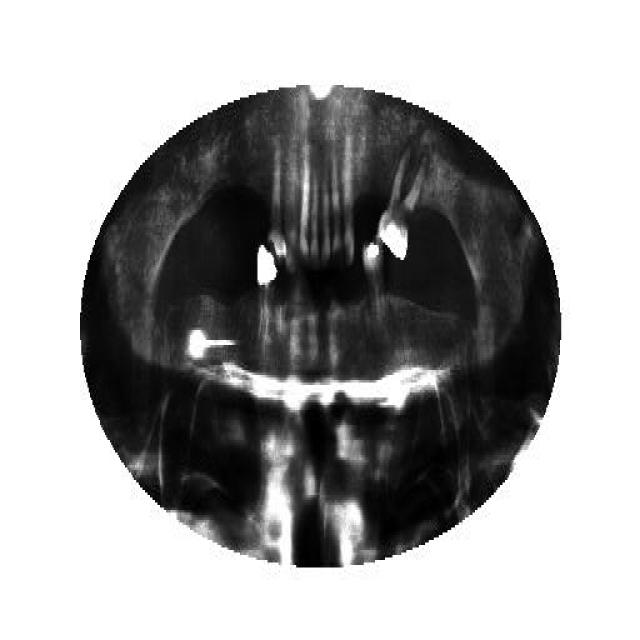Fillings: (378, 152, 427, 262), (256, 245, 278, 357), (363, 235, 385, 347)
